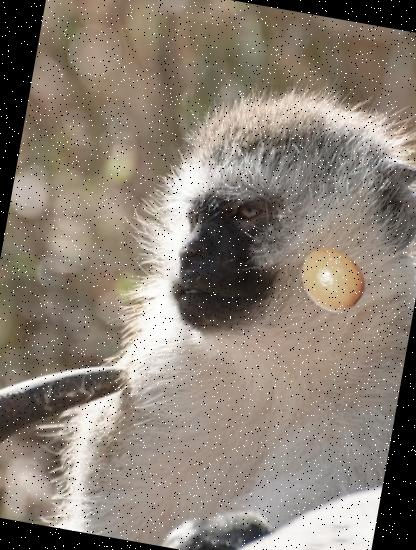Lemon: (290, 239, 372, 320)
